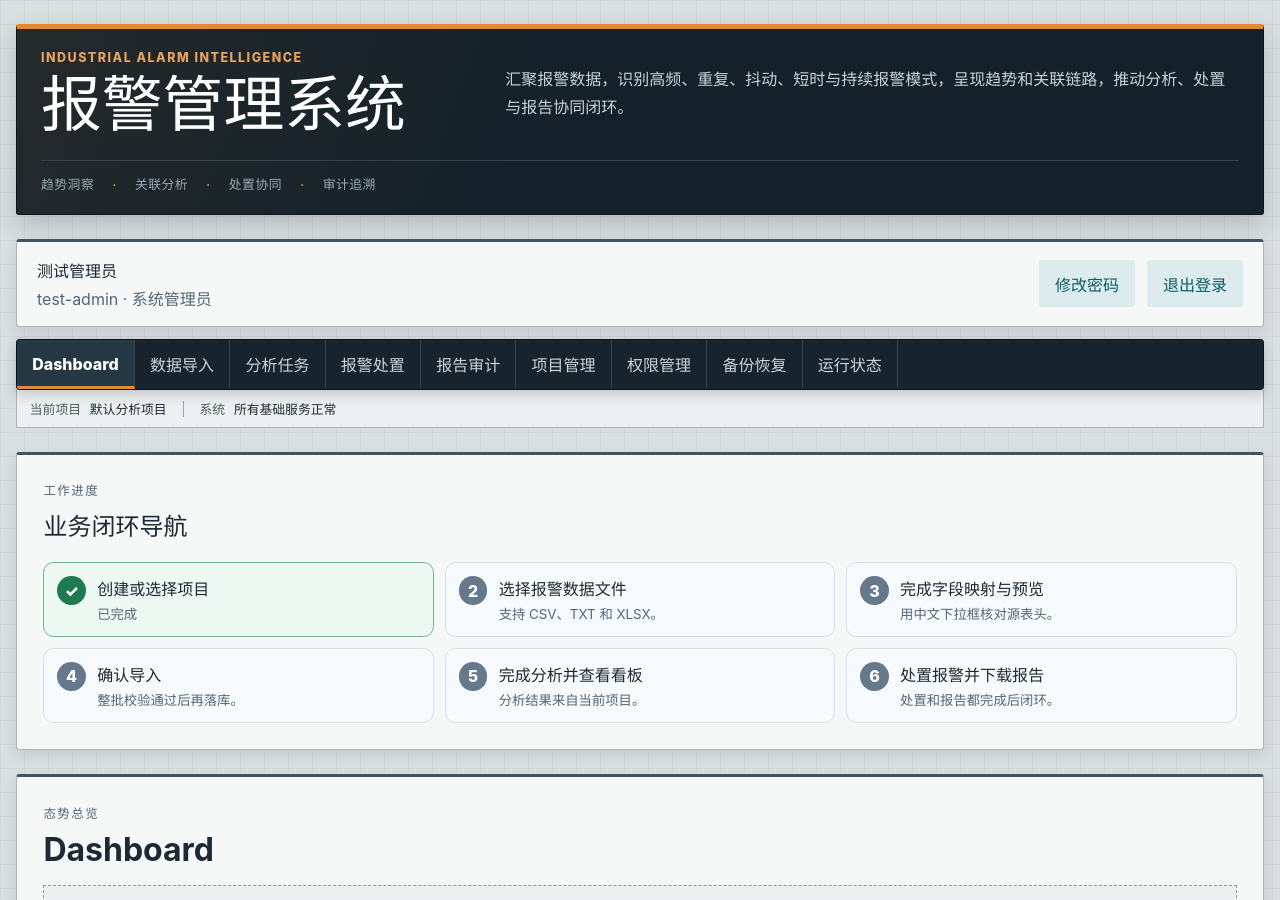
Scenario: M1 状态页 › 显示产品价值叙事、独立状态页和三个健康组件
The width and height of the screenshot is (1280, 900).
Expected: the heading "报警管理系统" is shown, [41,67,406,141]
Expected: the text "汇聚报警数据，识别高频、重复、抖动、短时与持续报警模式，呈现趋势和关联链路，推动分析、处置与报告协同闭环。" is shown, [505,65,1239,121]
Click the tab with test id "workspace-tab-status" at [850, 365], box [803,340,898,390]
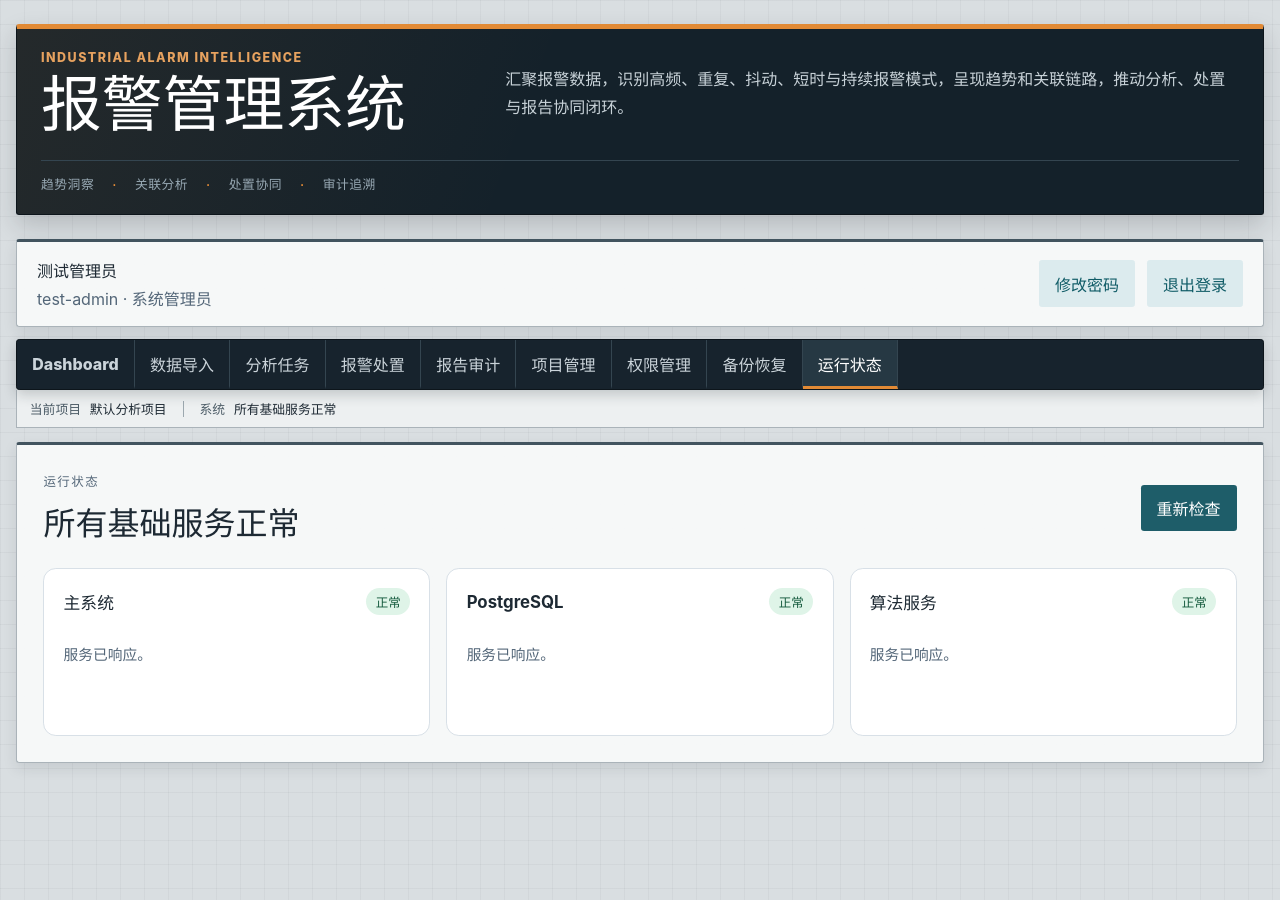
Expected: the heading "所有基础服务正常" is shown, [43,498,299,544]
Expected: the element "主系统" is shown, [43,568,430,736]
Expected: the text "正常" in the row of "主系统" is shown, [376,594,401,610]
